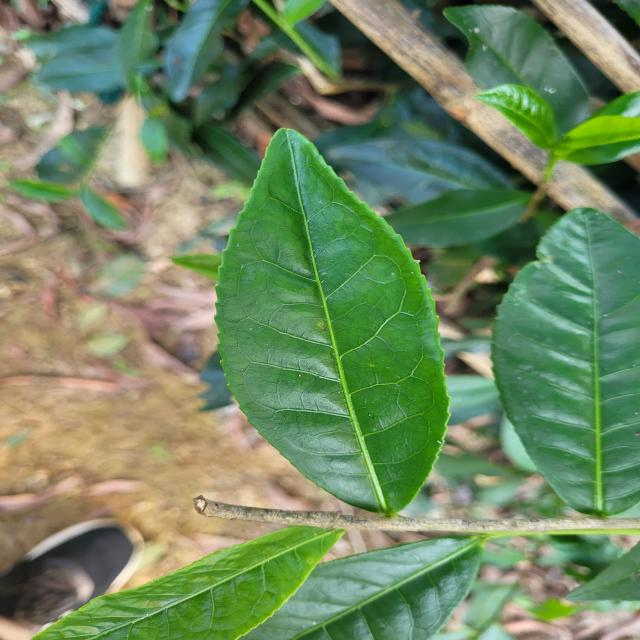Category D 7+ days, Not for Tea: (199, 118, 482, 517)
